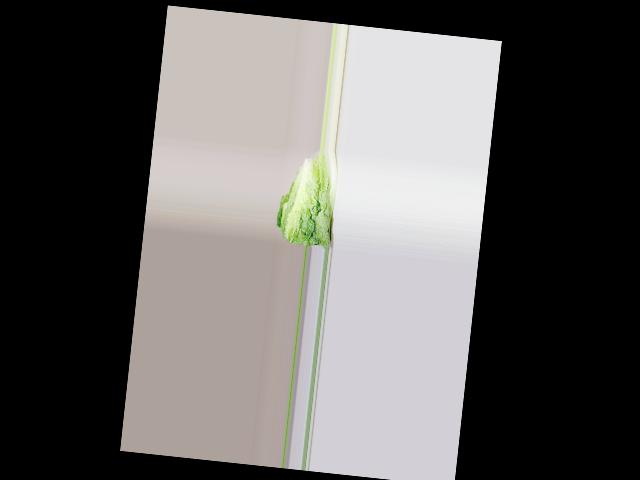lettuce: (281, 151, 342, 250)
